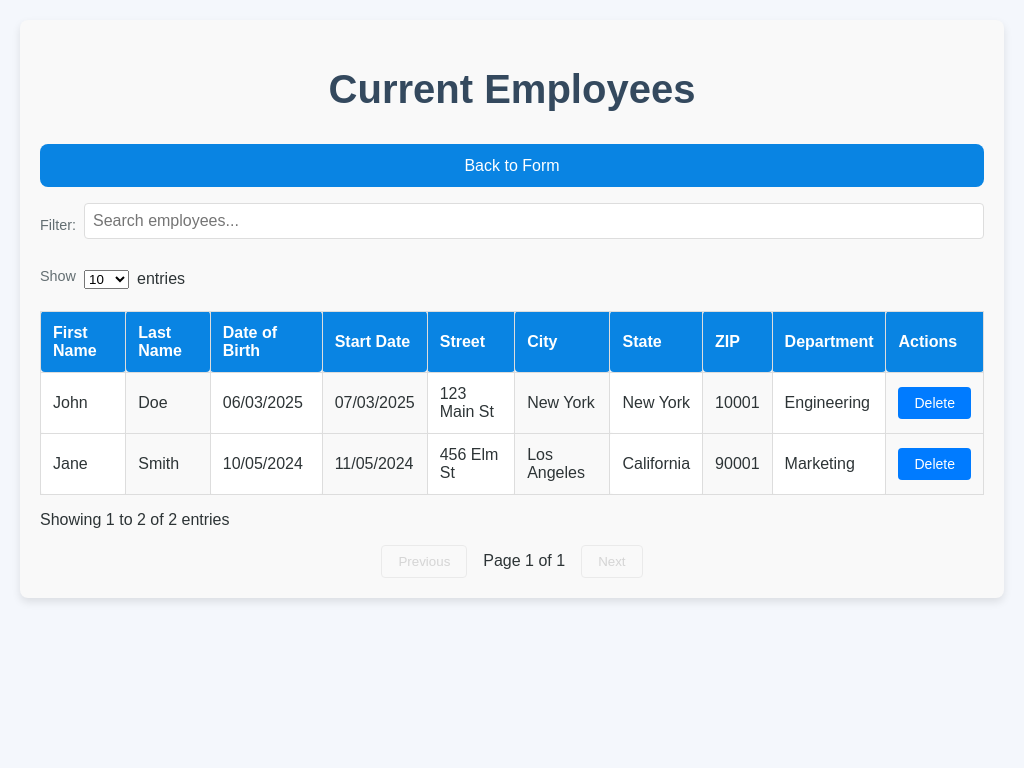
Test: TablePage › renders employees and supports filtering and pagination
Expected: the text "John" is shown, x1=40 y1=372 x2=126 y2=433
Expected: the text "Jane" is shown, x1=40 y1=433 x2=126 y2=494
Note: Test du filtre : on recherche "Jane"
In the field with placeholder "Search employees...": (534,221) x1=84 y1=203 x2=984 y2=239, type "Jane"
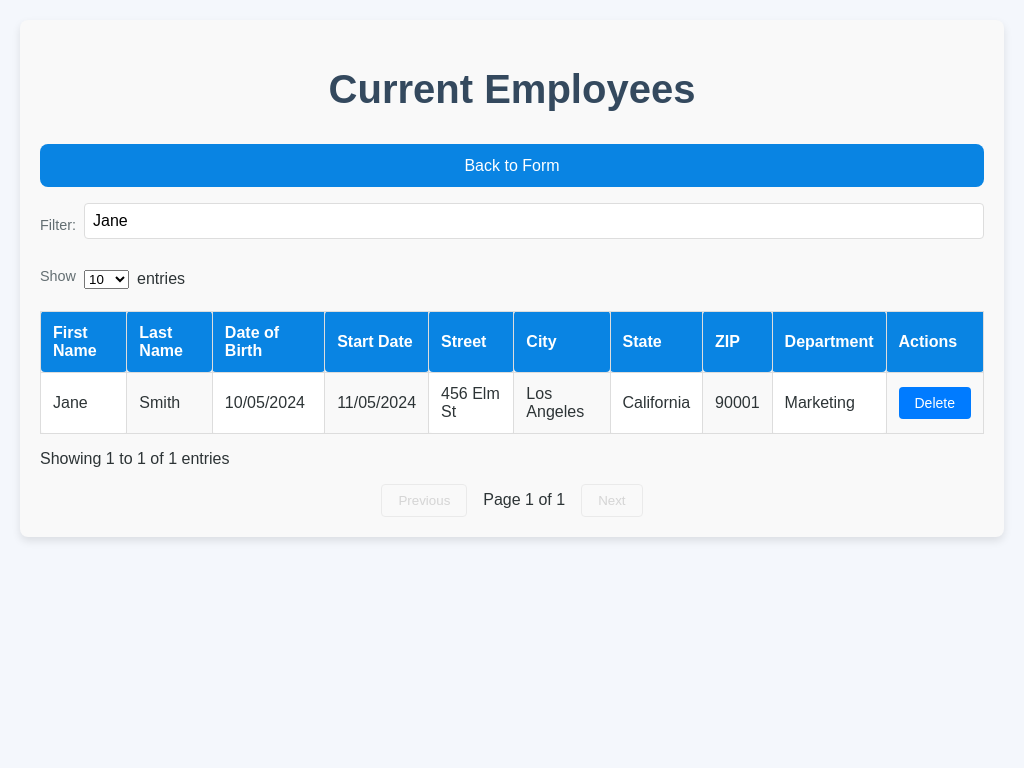
Expected: the text "Jane" is shown, x1=40 y1=372 x2=127 y2=433
Expected: the text "John" is gone
